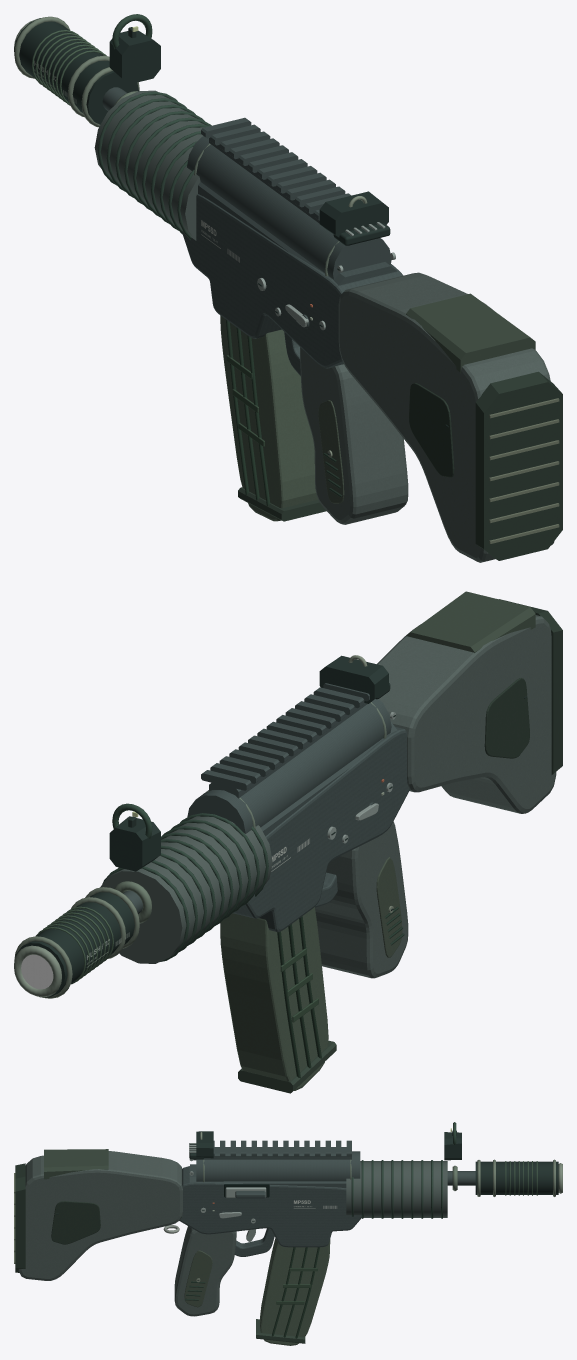
The picture shows the model from 3 angles, top to bottom: view 1: azimuth 30°, elevation 25°; view 2: azimuth 150°, elevation 25°; view 3: azimuth 270°, elevation 25°; orthographic projection. The views are drawn at different scales.
Visible parts, largest first — view 1: mp5sd, magazine; view 2: mp5sd, magazine; view 3: mp5sd, magazine, bolt.
Part boxes in pixels (<box>): mp5sd: <box>14,14,562,562</box>; magazine: <box>220,315,326,521</box>; mp5sd: <box>14,591,562,998</box>; magazine: <box>220,907,336,1093</box>; mp5sd: <box>14,1122,562,1316</box>; magazine: <box>256,1238,330,1345</box>; bolt: <box>225,1187,266,1198</box>.
Size of the model in its own units: 0.156 by 0.5888 by 1.35.
33 materials, 17 textured.
